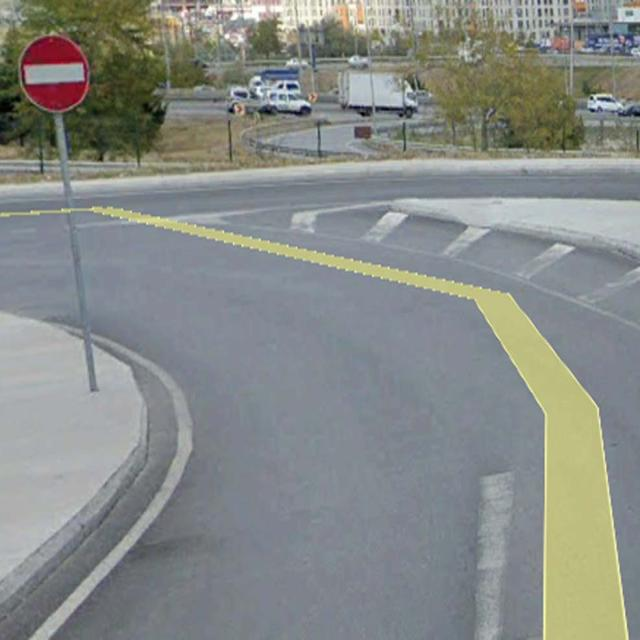girisyok: (18, 36, 91, 114)
